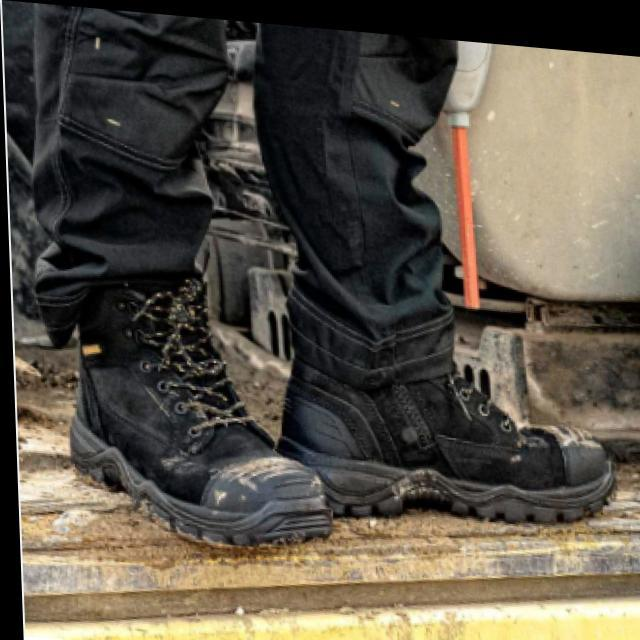boots: (51, 254, 628, 593)
